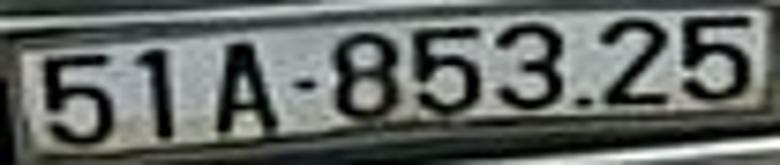-: (290, 74, 318, 93)
.: (574, 88, 594, 117)
1: (136, 47, 181, 142)
2: (596, 15, 673, 112)
3: (491, 21, 564, 113)
5: (676, 12, 761, 101), (41, 49, 115, 145), (412, 22, 480, 113)
8: (326, 30, 400, 123)
A: (210, 35, 281, 140)
